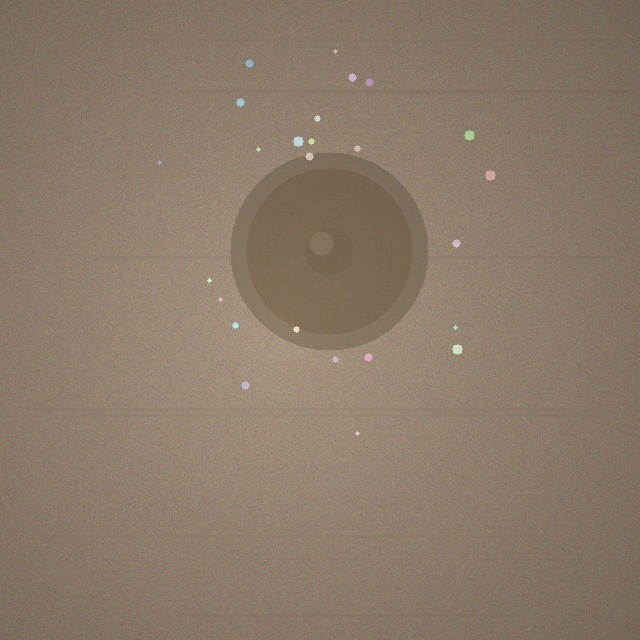overburn: (230, 152, 428, 350)
